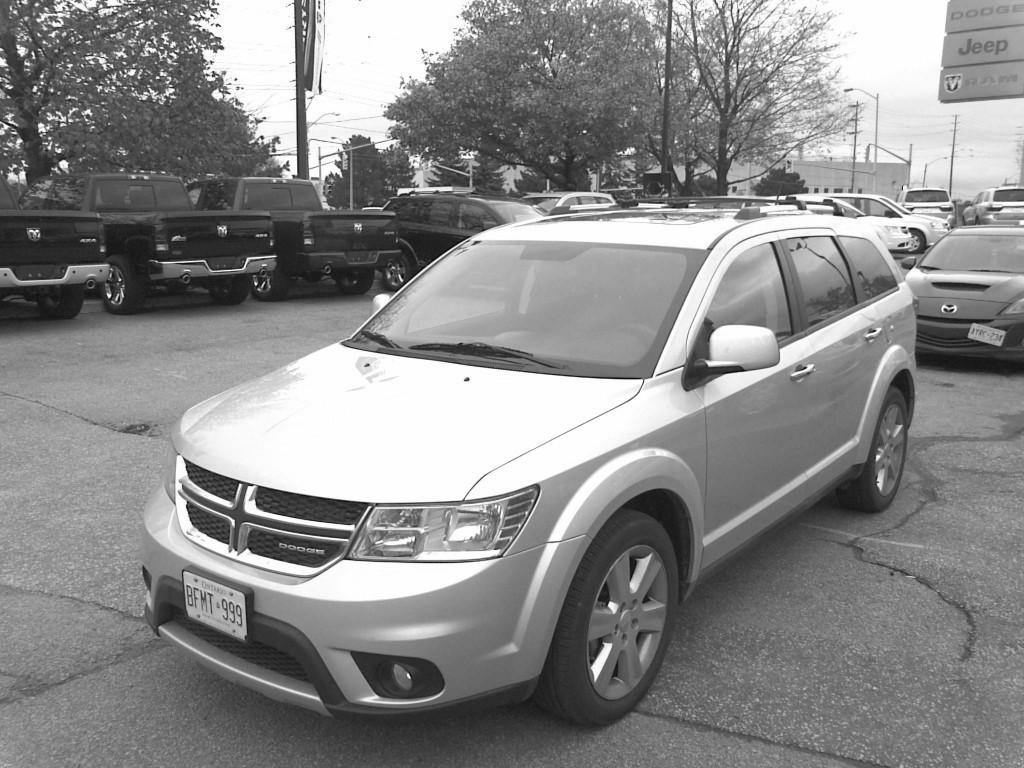car: (135, 195, 915, 729)
